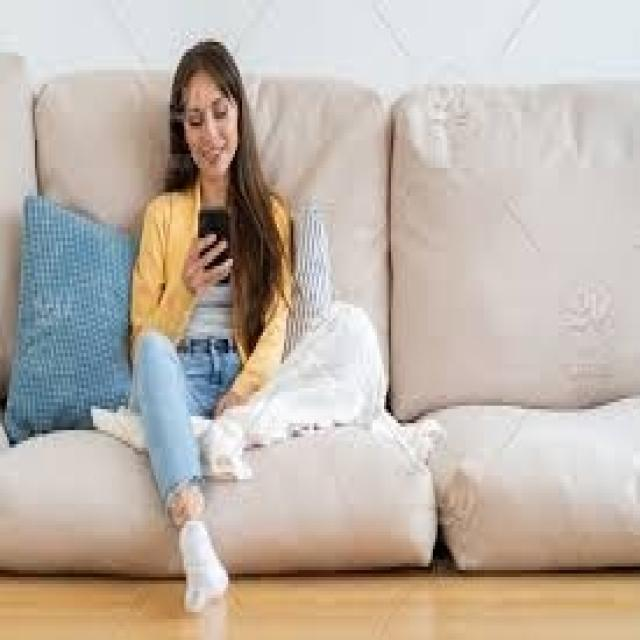sit: (131, 52, 282, 544)
